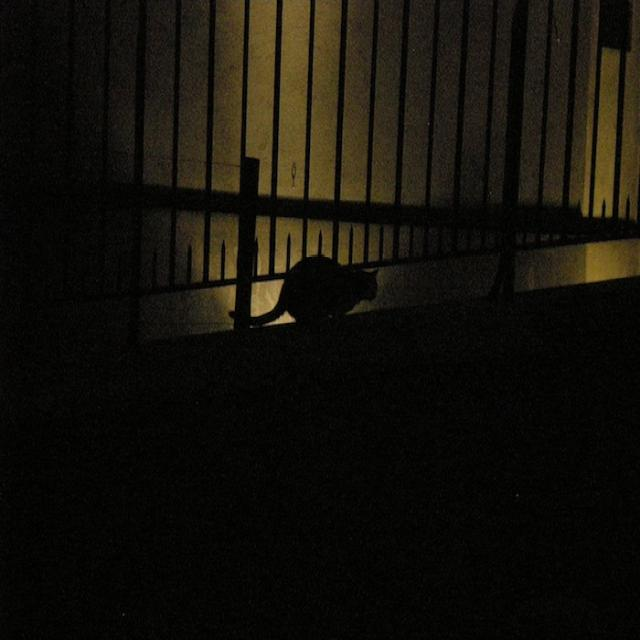Cat: (229, 225, 401, 338)
